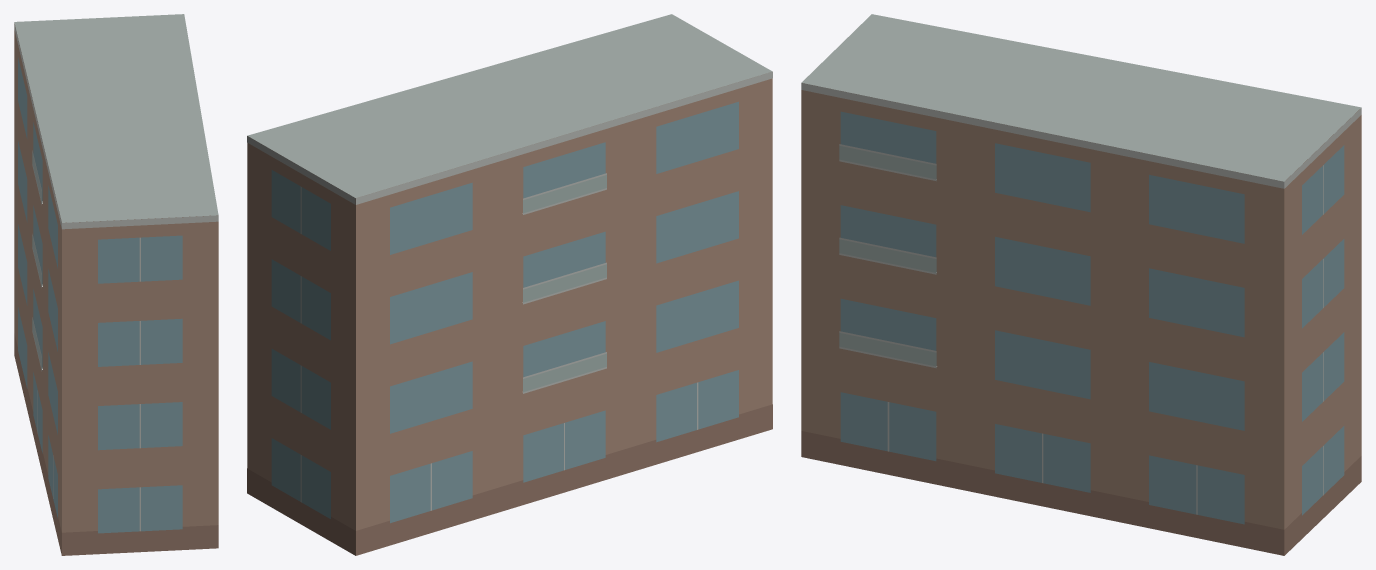
The model's file is survey-upis-32672106.glb.
The picture shows the model from 3 angles, left to right: view 1: azimuth 30°, elevation 25°; view 2: azimuth 150°, elevation 25°; view 3: azimuth 270°, elevation 25°; orthographic projection. The views are drawn at different scales.
Parts seen in each view (by area): view 1: survey-upis-32672106.tmp; view 2: survey-upis-32672106.tmp; view 3: survey-upis-32672106.tmp.
Boxes of the visible parts, x1=… form: survey-upis-32672106.tmp: x1=14, y1=14, x2=218, y2=555; survey-upis-32672106.tmp: x1=247, y1=14, x2=772, y2=555; survey-upis-32672106.tmp: x1=801, y1=14, x2=1361, y2=555.
Size of the model in its own units: 12.31 by 12.8 by 17.38.
